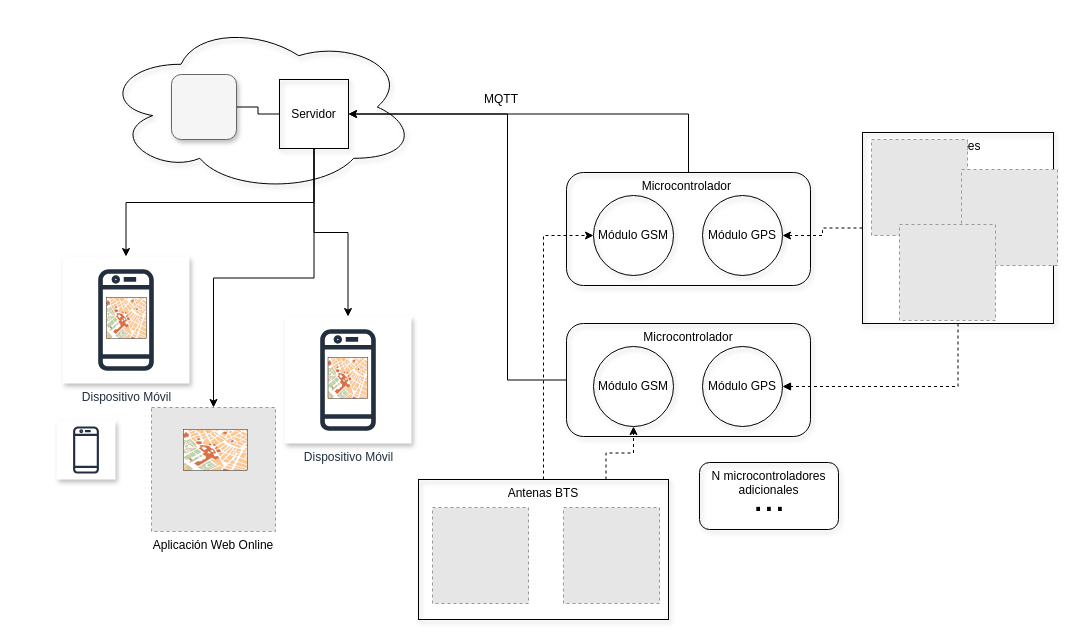
Some shapes in this 1077 by 644 pixel diagram are drawn without their labels. Grey dashed boxes stand in for pictures. The shapes that lost their labels are listed below. From the top down, each one's centre as x and y in pixels, then its label:
point (204, 108): Storage
point (87, 451): N dispositivos adicionales
